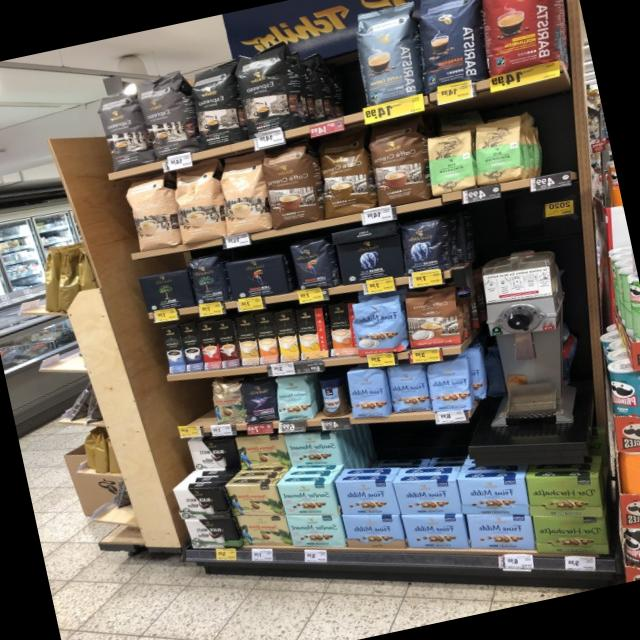AB Bohne: (399, 216, 449, 276)
AB Gemahlen: (334, 234, 405, 286)
Athiopien Gemahlen: (467, 107, 527, 188), (424, 123, 477, 197)
BW Bohne: (184, 252, 231, 306)
BW Gemahlen: (136, 271, 195, 312), (171, 486, 231, 520), (182, 518, 241, 548), (187, 439, 241, 470)
Barista CC: (344, 0, 423, 106)
Barista Espresso: (406, 0, 485, 93)
Barista Kolumbien: (475, 0, 567, 79)
C Fino Bohne: (237, 376, 279, 423)
CC Mild: (165, 158, 229, 247), (114, 171, 182, 253), (213, 150, 272, 237)
CC Vollmundig: (399, 280, 465, 350)
CC Vollmundig 36 Pads: (363, 125, 433, 209), (258, 143, 324, 231), (311, 137, 377, 221)
Colombia BB Bohne: (206, 381, 245, 425)
Colombia BB Gemahlen: (234, 434, 290, 471), (222, 484, 284, 516), (233, 515, 292, 546)
Empty Shelf: (278, 11, 361, 125), (169, 381, 214, 426)
Espresso Aromatisch: (74, 83, 155, 171), (125, 69, 200, 162)
Espresso Kraftig: (228, 39, 304, 141), (182, 52, 253, 149)
FM 36 Pads: (345, 290, 410, 358)
FM Bohne: (422, 356, 474, 413), (341, 367, 392, 419), (383, 365, 433, 414)
FM Gemahlen: (455, 477, 529, 515), (465, 514, 535, 550), (399, 513, 470, 548), (333, 480, 402, 515), (391, 480, 462, 514), (340, 514, 406, 547)
FM Instant: (310, 372, 348, 420)
Herzhatfe Mundig: (525, 476, 605, 518), (531, 516, 610, 555)
LG Bohne: (282, 234, 339, 292)
LG Gemahlen: (222, 255, 291, 302)
SM Bohne: (271, 374, 317, 422)
SM Gemahlen: (275, 481, 340, 515), (283, 432, 343, 467), (284, 514, 346, 547)
Simo CCMild: (294, 307, 328, 359)
Simo CCMild bigpack: (273, 309, 300, 363)
Simo CCVollmundig bigpack: (253, 312, 278, 364)
Simo Decaff: (233, 315, 260, 366)
Simo Es Brazil: (196, 320, 222, 371)
Simo Es Caramel: (213, 317, 241, 369)
Simo Es Kraft: (178, 322, 204, 372)
Simo Es Vanilla: (157, 325, 186, 374)
